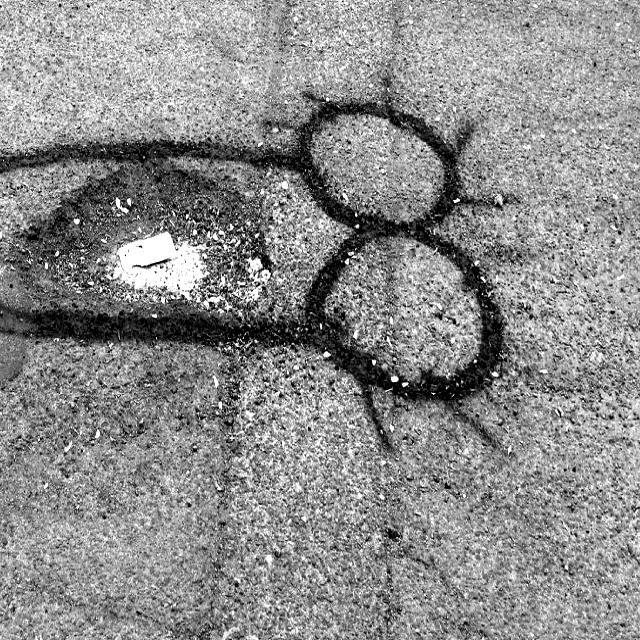pathole: (2, 97, 394, 433)
